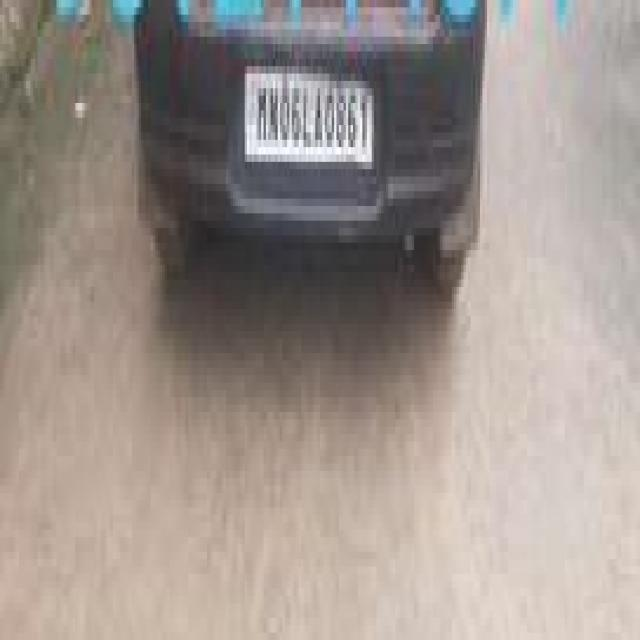Plate: (241, 60, 373, 155)
